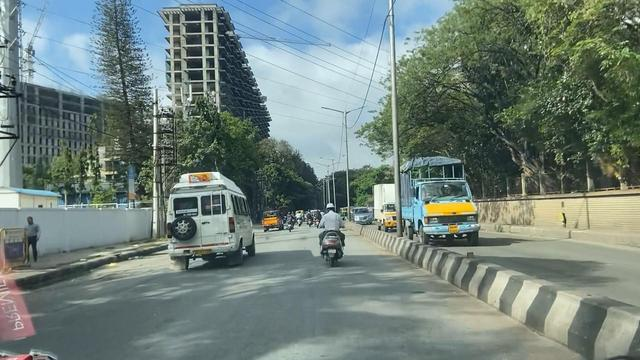HMV: (172, 176, 260, 270)
LMV: (311, 206, 347, 266)
